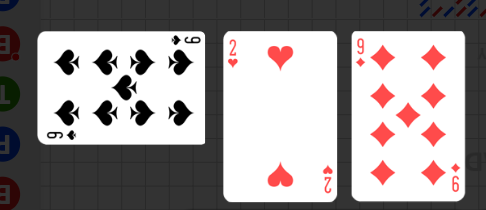9D: (450, 161, 461, 193)
9S: (45, 128, 79, 141), (169, 34, 202, 46)
